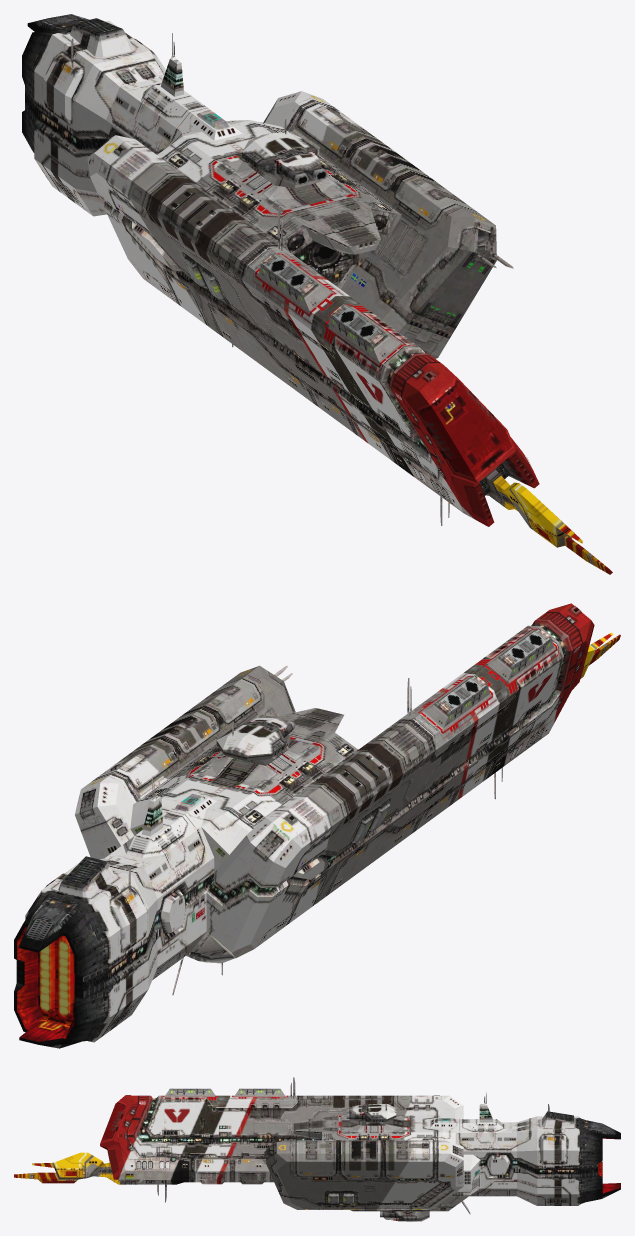
The model's file is vgr-destroyer.glb.
The picture shows the model from 3 angles, top to bottom: view 1: azimuth 30°, elevation 25°; view 2: azimuth 150°, elevation 25°; view 3: azimuth 270°, elevation 25°; orthographic projection. The views are drawn at different scales.
Visible parts, largest first — view 1: Object_2, Object_16, Object_11, Object_17, Object_8; view 2: Object_2, Object_16, Object_11, Object_12, Object_17, Object_8, Object_13, Object_18; view 3: Object_2, Object_16, Object_11, Object_17, Object_8, Object_18, Object_4, Object_12.
Part boxes in pixels (x1=…): Object_2: x1=22, y1=14, x2=612, y2=574; Object_16: x1=52, y1=20, x2=401, y2=246; Object_11: x1=44, y1=38, x2=494, y2=382; Object_17: x1=71, y1=33, x2=513, y2=525; Object_8: x1=242, y1=132, x2=321, y2=175; Object_2: x1=14, y1=603, x2=620, y2=1048; Object_16: x1=41, y1=708, x2=358, y2=957; Object_11: x1=45, y1=606, x2=581, y2=951; Object_12: x1=17, y1=926, x2=74, y2=1041; Object_17: x1=128, y1=665, x2=502, y2=995; Object_8: x1=216, y1=716, x2=289, y2=760; Object_13: x1=40, y1=935, x2=73, y2=1019; Object_18: x1=517, y1=664, x2=556, y2=716; Object_2: x1=14, y1=1088, x2=620, y2=1209; Object_16: x1=293, y1=1115, x2=580, y2=1211; Object_11: x1=125, y1=1095, x2=566, y2=1203; Object_17: x1=157, y1=1077, x2=549, y2=1214; Object_8: x1=349, y1=1104, x2=396, y2=1121; Object_18: x1=164, y1=1103, x2=189, y2=1128; Object_4: x1=384, y1=1211, x2=429, y2=1221; Object_12: x1=598, y1=1138, x2=620, y2=1193.
Bounding box in the file's own units: 104 × 110 × 459.
Materials: 17 (17 with a texture image).
